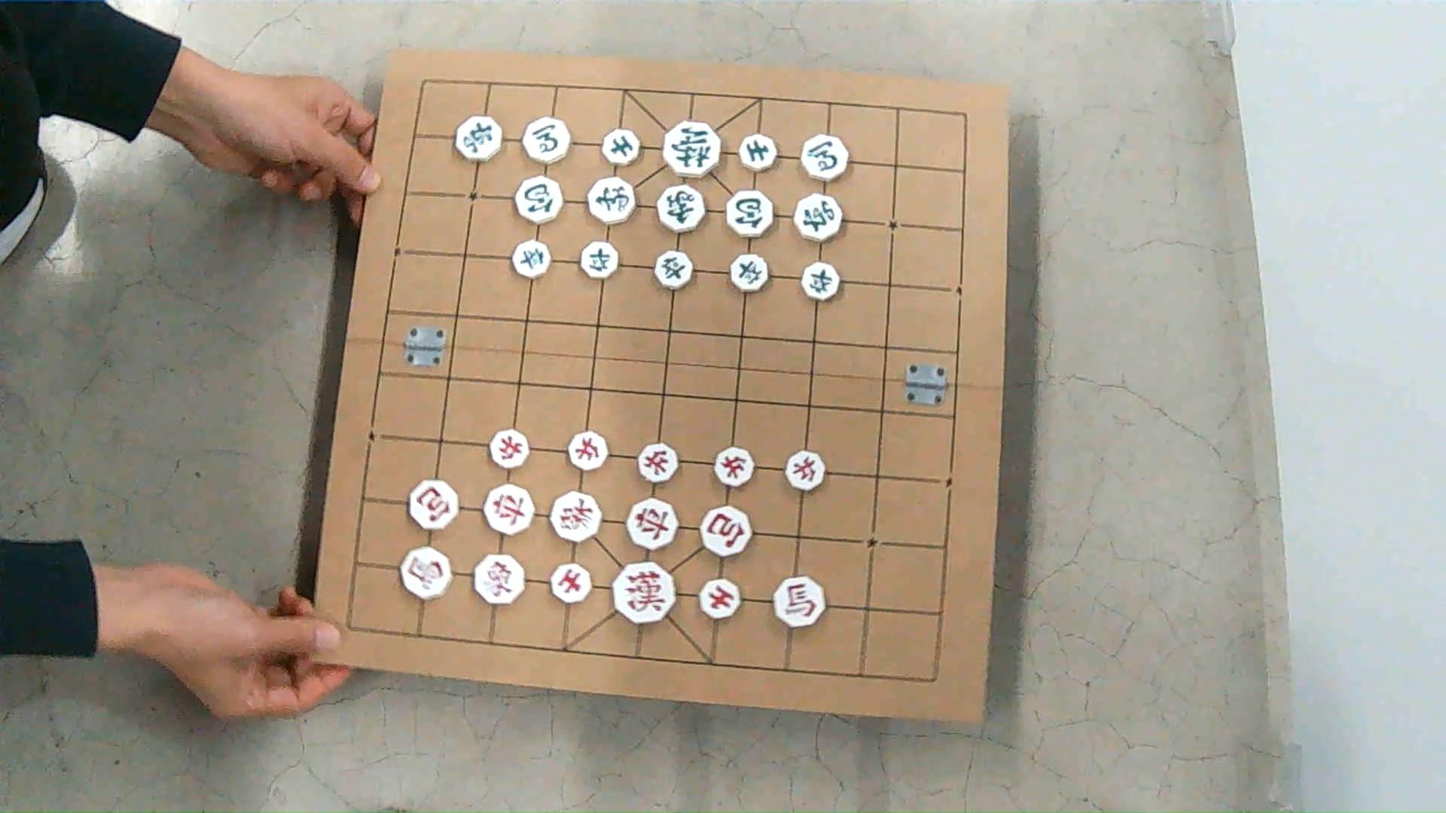cha_green: (795, 193, 844, 242), (455, 116, 502, 161)
cha_red: (627, 498, 678, 549), (484, 484, 535, 534)
jol_green: (511, 240, 550, 278), (654, 251, 693, 289), (802, 262, 840, 300), (731, 254, 768, 291), (580, 242, 618, 278)
jol_red: (488, 428, 530, 469), (714, 446, 754, 487), (638, 443, 679, 483), (786, 450, 825, 491), (569, 431, 609, 470)
ma_green: (801, 134, 849, 181), (523, 117, 570, 163)
ma_red: (399, 547, 455, 599), (773, 576, 825, 626)
po_green: (514, 176, 563, 223), (726, 190, 774, 237)
po_red: (700, 507, 753, 557), (408, 480, 460, 530)
sa_green: (738, 133, 778, 171), (601, 129, 641, 166)
sa_red: (550, 562, 593, 604), (697, 578, 740, 618)
sang_green: (657, 184, 706, 232), (588, 176, 636, 224)
sang_red: (472, 554, 527, 605), (551, 492, 602, 542)
wang_green: (663, 120, 721, 177)
wang_red: (611, 561, 675, 624)
